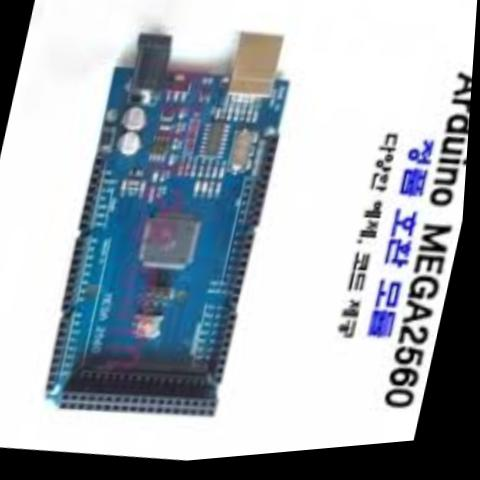Arduino-Mega: (27, 3, 320, 454)
